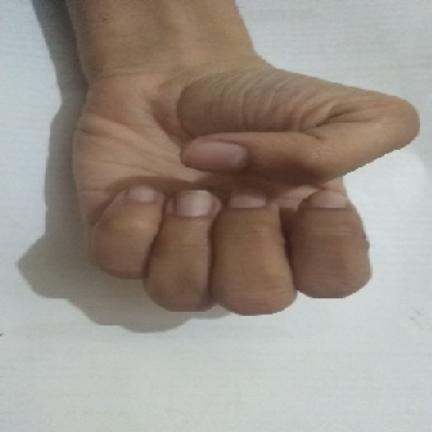Nail: (182, 140, 248, 170), (176, 190, 213, 217), (300, 190, 348, 208), (228, 190, 267, 208), (127, 185, 156, 202)
